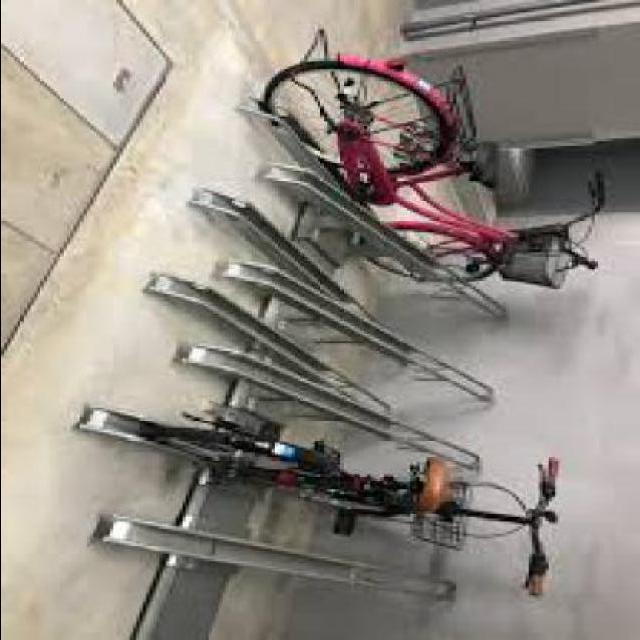bicycle: (41, 369, 575, 625), (252, 65, 623, 327)
